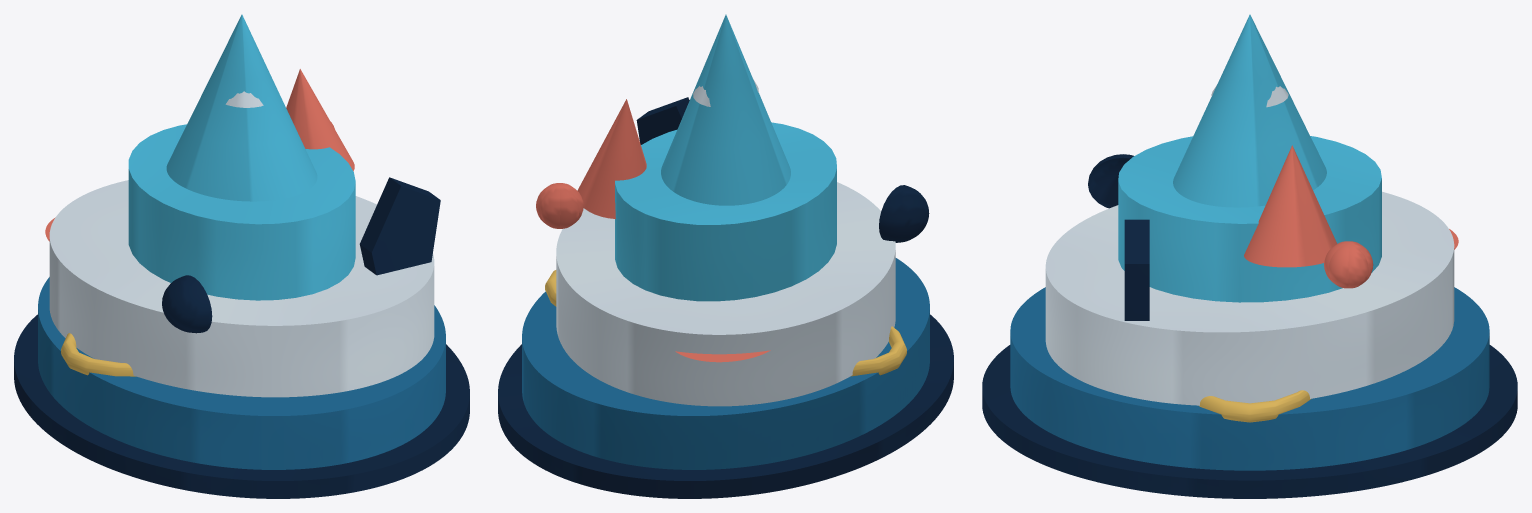
Rendered from 0631_地貌图鉴_魔鬼塔.glb.
3 renders of one model, left to right at view 1: azimuth 30°, elevation 25°; view 2: azimuth 150°, elevation 25°; view 3: azimuth 270°, elevation 25°, orthographic. The views are drawn at different scales.
Parts seen in each view (by area): view 1: card_0631; view 2: card_0631; view 3: card_0631.
Boxes of the visible parts, left/top/right/bottom form: card_0631: left=14, top=14, right=469, bottom=498; card_0631: left=498, top=14, right=953, bottom=498; card_0631: left=982, top=14, right=1517, bottom=498.
Size of the model in its own units: 1.03 by 1 by 1.24.
